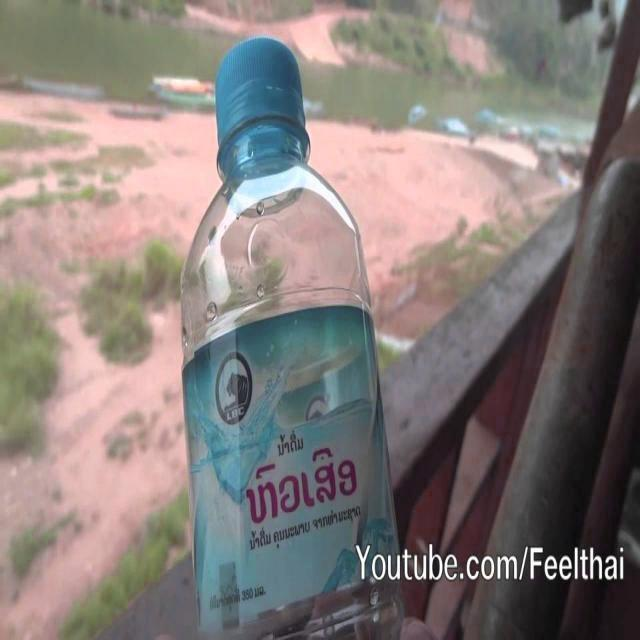bottle: (179, 35, 404, 640)
